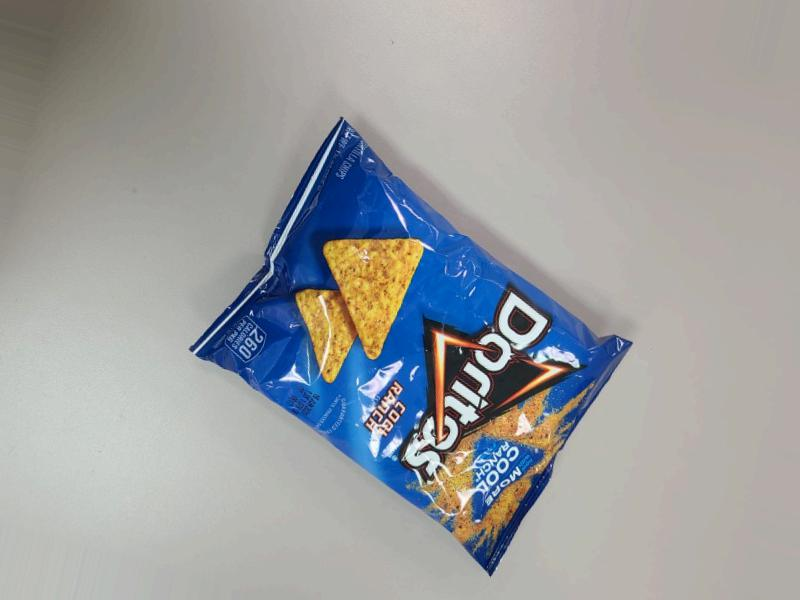doritos: (256, 205, 681, 600)
